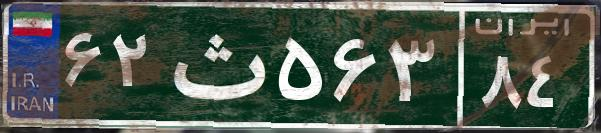2: (110, 28, 158, 105)
3: (385, 28, 445, 110)
4: (525, 38, 570, 115)
5: (273, 28, 330, 110)
6: (330, 28, 385, 110), (57, 26, 110, 107)
8: (475, 38, 525, 113)
ث: (158, 15, 273, 115)
